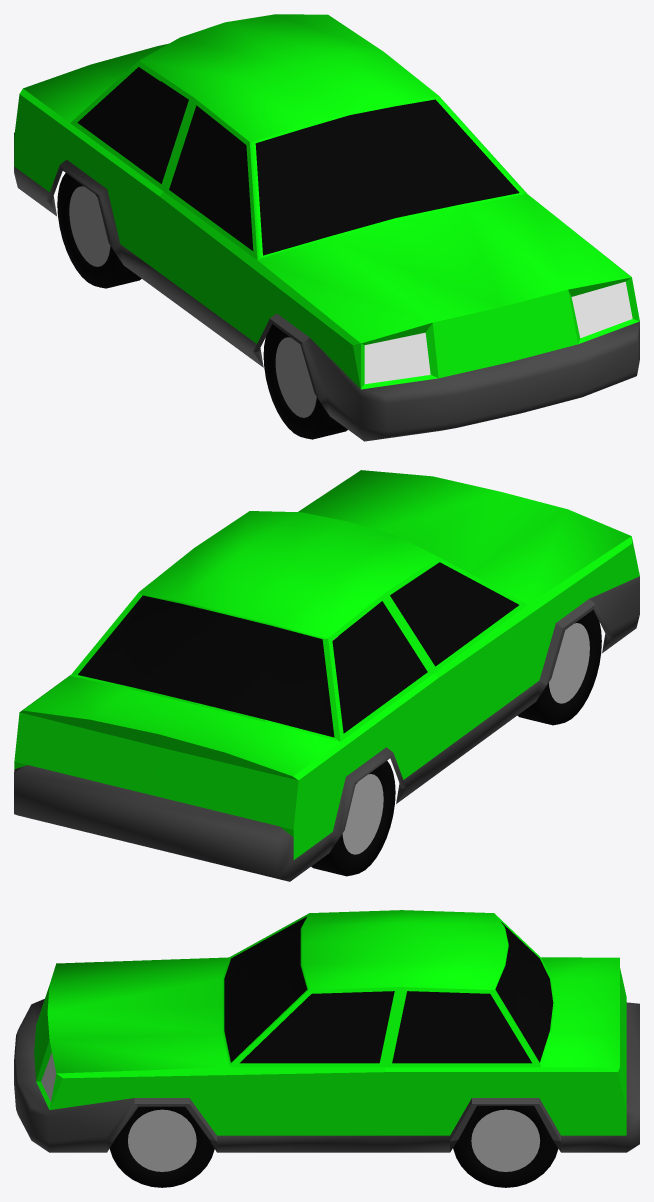
File: green_car.gltf
The picture shows the model from 3 angles, top to bottom: view 1: azimuth 30°, elevation 25°; view 2: azimuth 150°, elevation 25°; view 3: azimuth 270°, elevation 25°; orthographic projection. The views are drawn at different scales.
Parts seen in each view (by area): view 1: Car_Cube; view 2: Car_Cube; view 3: Car_Cube.
Part boxes in pixels (x1=…): Car_Cube: x1=14, y1=14, x2=639, y2=441; Car_Cube: x1=14, y1=470, x2=639, y2=881; Car_Cube: x1=14, y1=910, x2=639, y2=1187.
Bounding box in the file's own units: 2.1 × 1.59 × 4.66.
